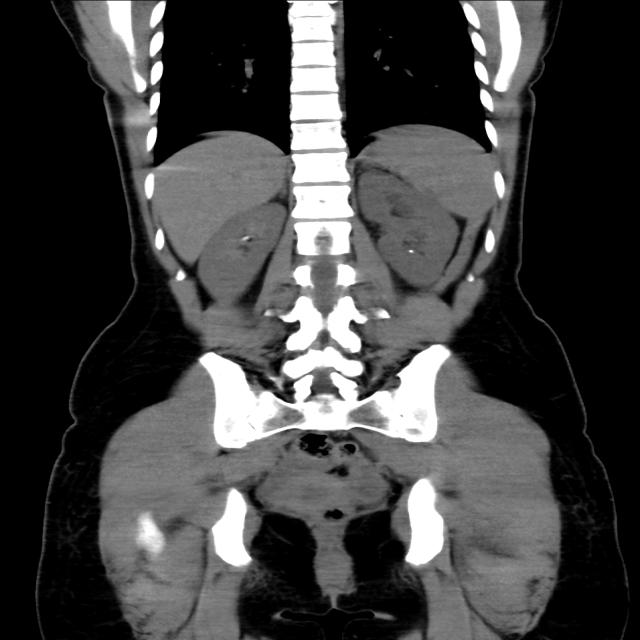kidneystone: (408, 249, 414, 254)
